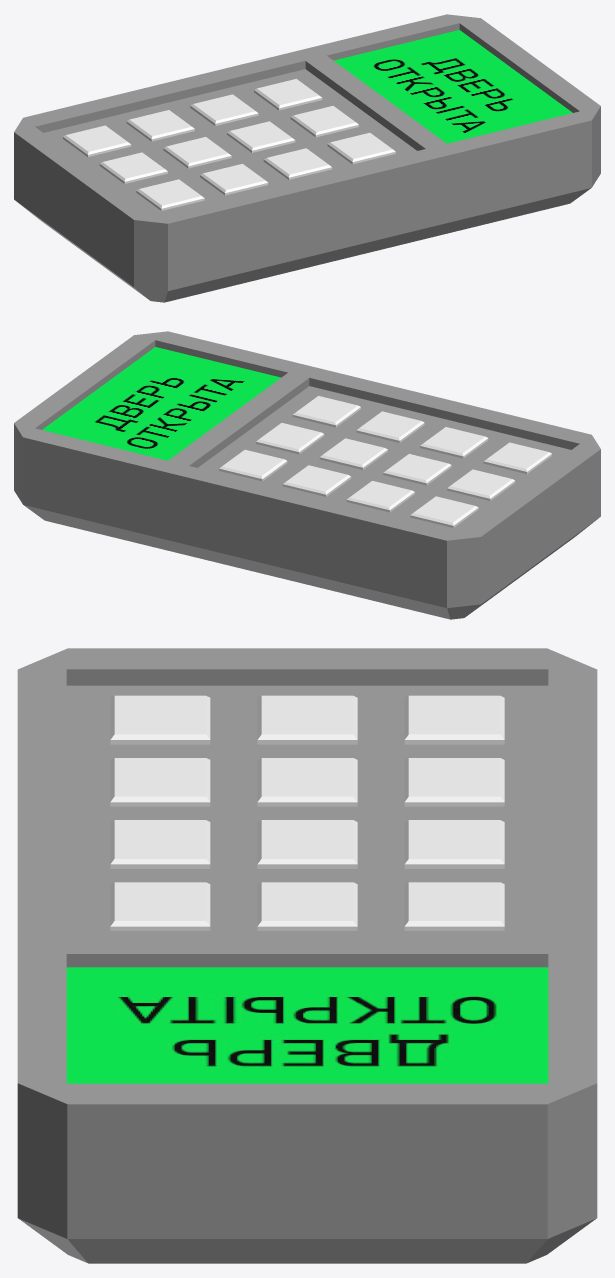
Rendered from phone_5_solved.glb.
3 views of the same model, one above another, from view 1: azimuth 30°, elevation 25°; view 2: azimuth 150°, elevation 25°; view 3: azimuth 270°, elevation 25° (orthographic). The views are drawn at different scales.
Visible parts, largest first — view 1: phone_5_solved; view 2: phone_5_solved; view 3: phone_5_solved.
Part boxes in pixels (bbox=[...]): phone_5_solved: bbox=[14, 14, 600, 302]; phone_5_solved: bbox=[14, 331, 600, 619]; phone_5_solved: bbox=[17, 648, 597, 1263].
Size of the model in its own units: 0.3353 by 0.0622 by 0.1801.
4 materials, 2 textured.
